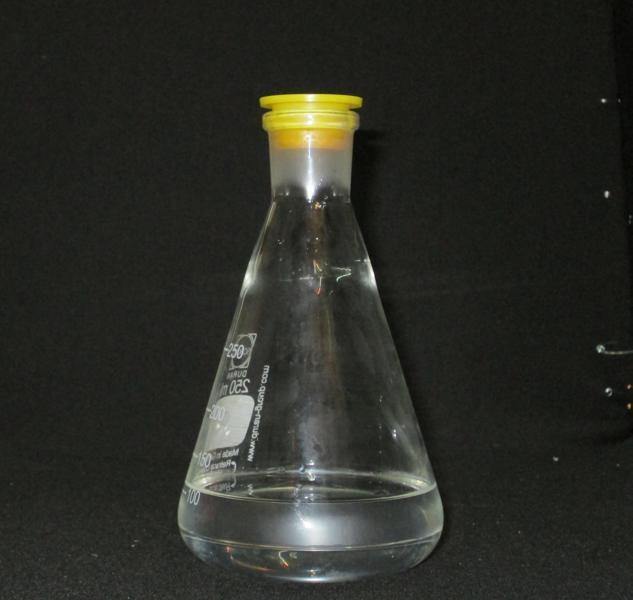Titrarion: (176, 77, 449, 573)
